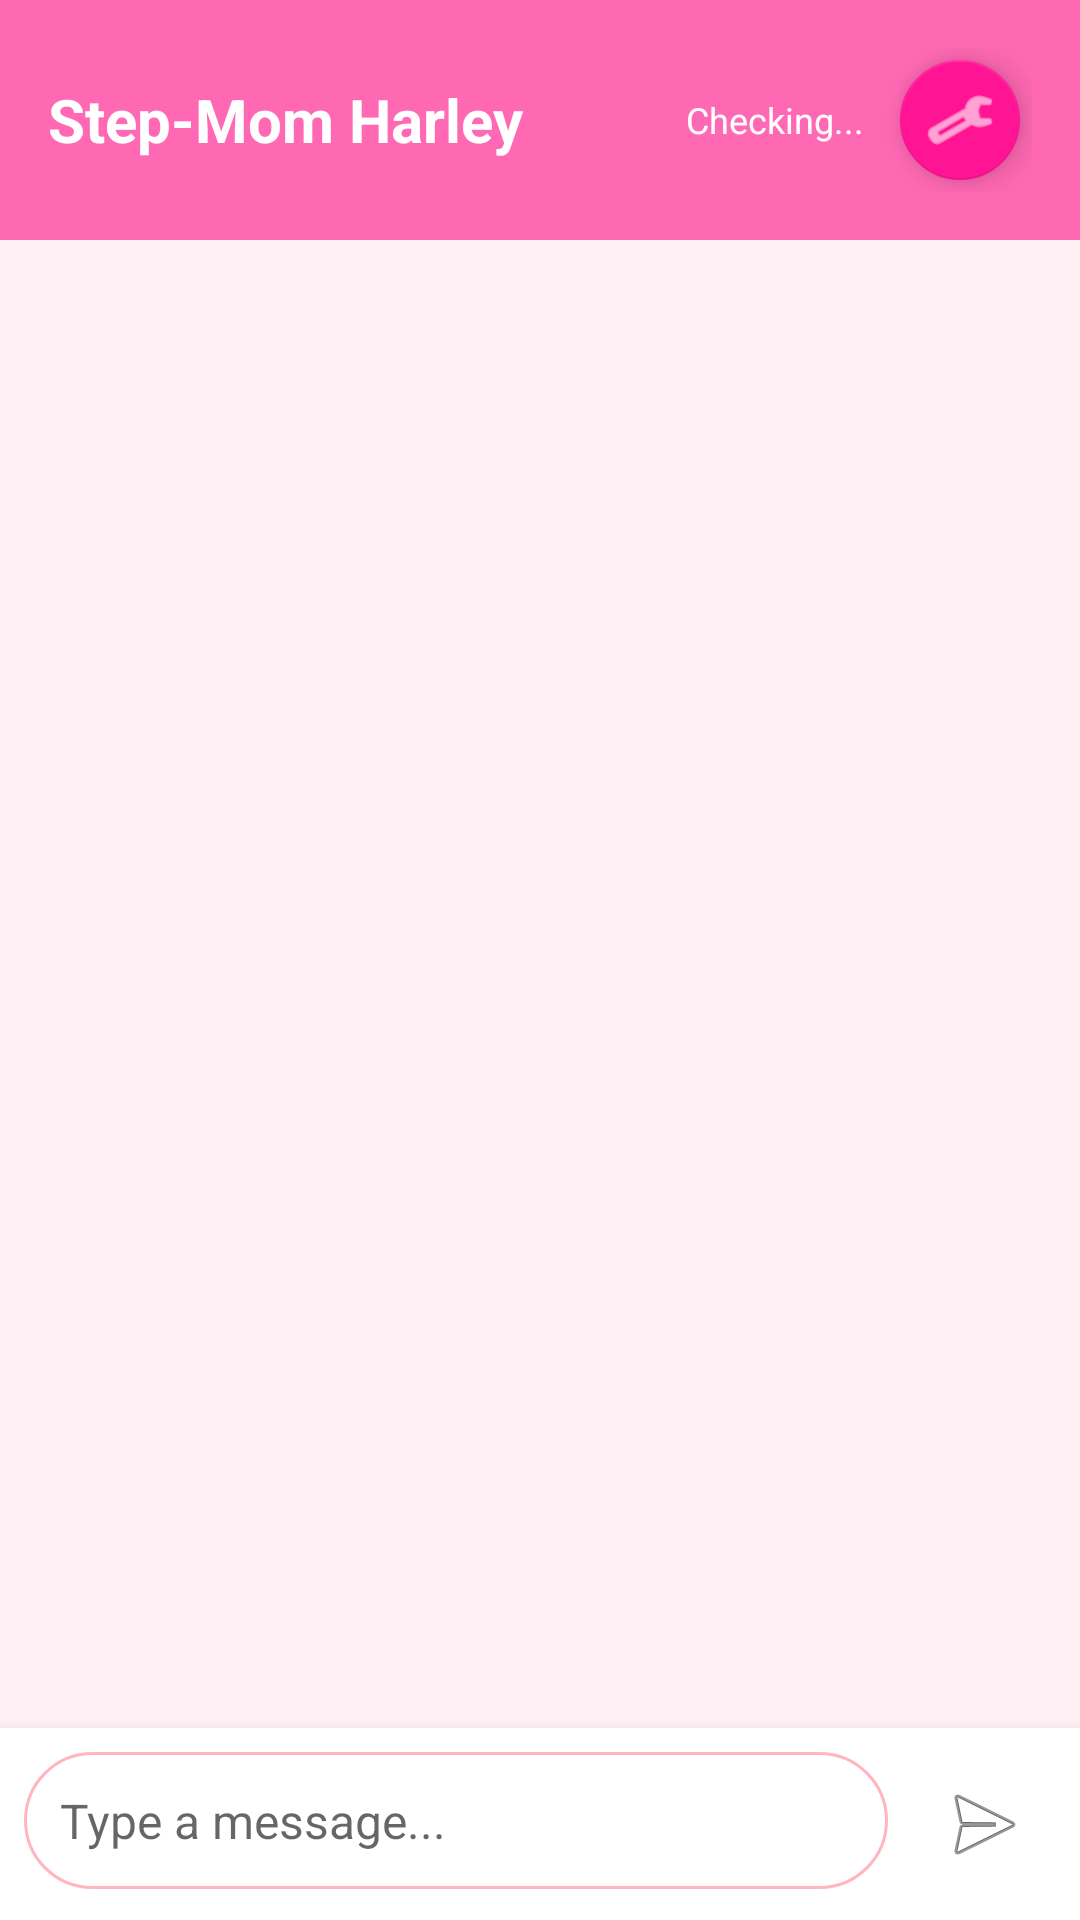

Locate icon controls on the screen. Image size 1080px x 1920px, boxes as (x1, y1, x2, y2).
Send: (954, 1794, 1016, 1855)
Settings: (900, 60, 1023, 181)
